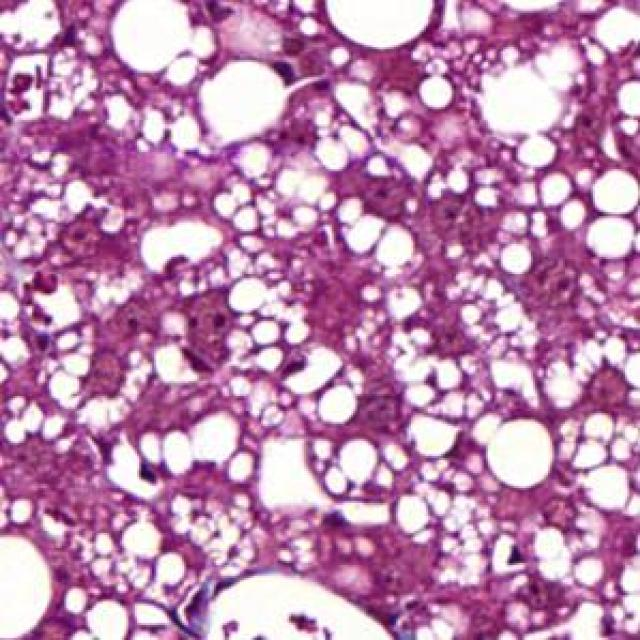steatosis: (100, 0, 206, 71)
